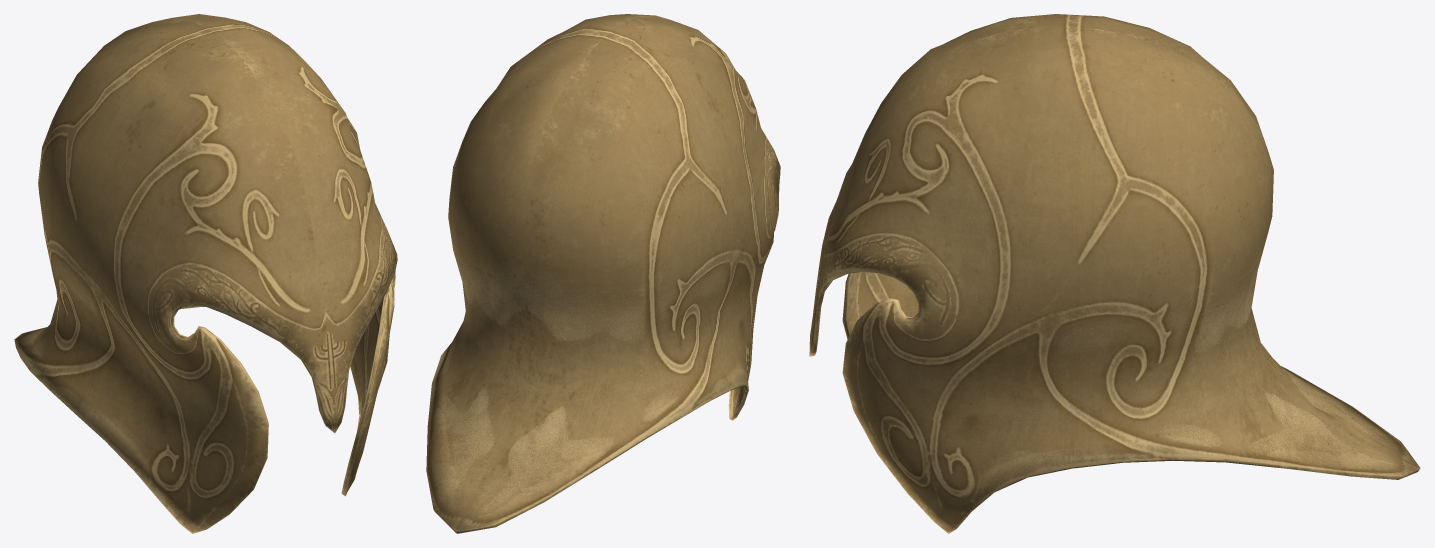
Rendered from rivendell_helmet_infantry_tier1.fbx.
The picture shows the model from 3 angles, left to right: view 1: azimuth 30°, elevation 25°; view 2: azimuth 150°, elevation 25°; view 3: azimuth 270°, elevation 25°; orthographic projection. The views are drawn at different scales.
Parts seen in each view (by area): view 1: rivendell_helmet_infantry_tier1; view 2: rivendell_helmet_infantry_tier1; view 3: rivendell_helmet_infantry_tier1.
Boxes of the visible parts, bbox=[...] form: rivendell_helmet_infantry_tier1: bbox=[14, 14, 397, 533]; rivendell_helmet_infantry_tier1: bbox=[426, 14, 780, 533]; rivendell_helmet_infantry_tier1: bbox=[809, 14, 1420, 533].
Size of the model in its own units: 0.2002 by 0.3655 by 0.3098.
Materials: 1 (1 with a texture image).
